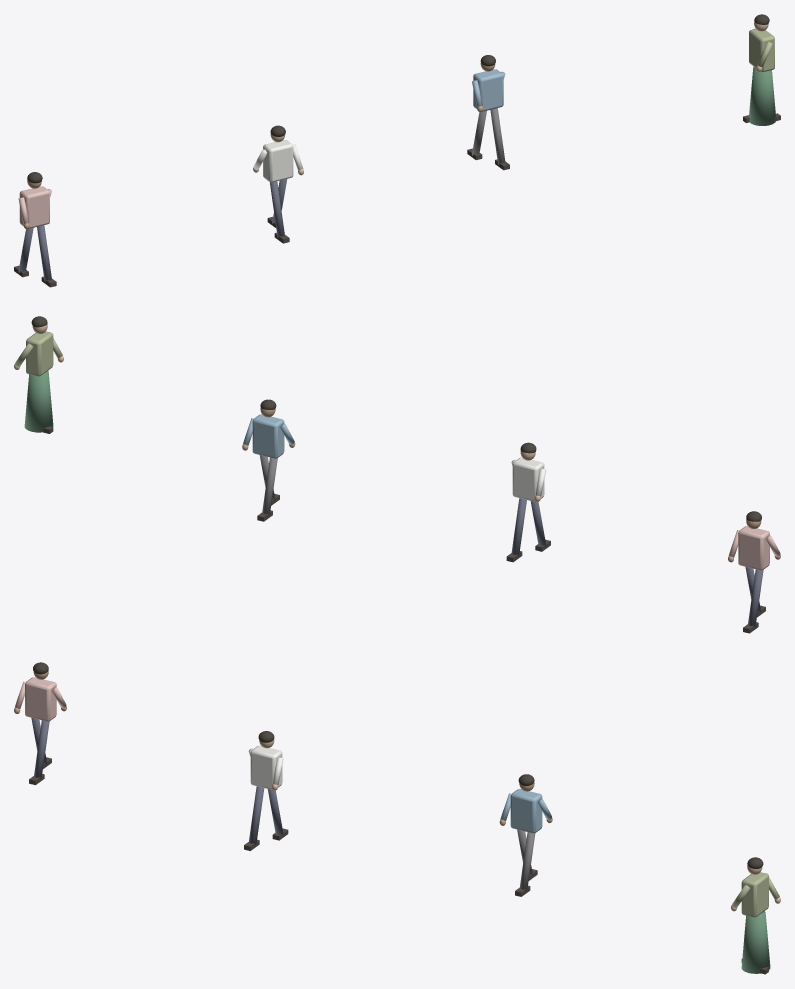
The model's file is pedestrians.glb.
3 views of the same model, one above another, from view 1: azimuth 30°, elevation 25°; view 2: azimuth 150°, elevation 25°; view 3: azimuth 330°, elevation 25° (orthographic). The views are drawn at different scales.
Visible parts, largest first — view 1: Ped_Man_Longyi_Longyi.001, Ped_Man_White_Torso.001, Ped_Woman_Blue_Torso.001, Ped_Woman_Pink_Torso.001, Ped_Man_Longyi_Torso.001; view 2: Ped_Man_Longyi_Longyi.001, Ped_Woman_Blue_Torso.001, Ped_Woman_Pink_Torso.001, Ped_Man_White_Torso.001, Ped_Man_Longyi_Torso.001; view 3: Ped_Man_Longyi_Longyi.001, Ped_Woman_Blue_Torso.001, Ped_Woman_Pink_Torso.001, Ped_Man_White_Torso.001, Ped_Man_Longyi_Torso.001.
Boxes of the visible parts, x1,y1,x2,y2 form: Ped_Man_Longyi_Longyi.001: (749, 66, 775, 125); Ped_Man_White_Torso.001: (263, 140, 293, 182); Ped_Woman_Blue_Torso.001: (473, 69, 503, 111); Ped_Woman_Pink_Torso.001: (19, 186, 49, 228); Ped_Man_Longyi_Torso.001: (749, 29, 774, 71); Ped_Man_Longyi_Longyi.001: (24, 370, 53, 432); Ped_Woman_Blue_Torso.001: (252, 414, 284, 458); Ped_Woman_Pink_Torso.001: (738, 526, 769, 570); Ped_Man_White_Torso.001: (512, 457, 544, 501); Ped_Man_Longyi_Torso.001: (26, 331, 53, 376); Ped_Man_Longyi_Longyi.001: (741, 911, 770, 973); Ped_Woman_Blue_Torso.001: (510, 789, 542, 833); Ped_Woman_Pink_Torso.001: (25, 677, 56, 721); Ped_Man_White_Torso.001: (250, 745, 282, 789); Ped_Man_Longyi_Torso.001: (741, 872, 768, 917).
Size of the model in its own units: 12.87 by 1.75 by 1.51.
